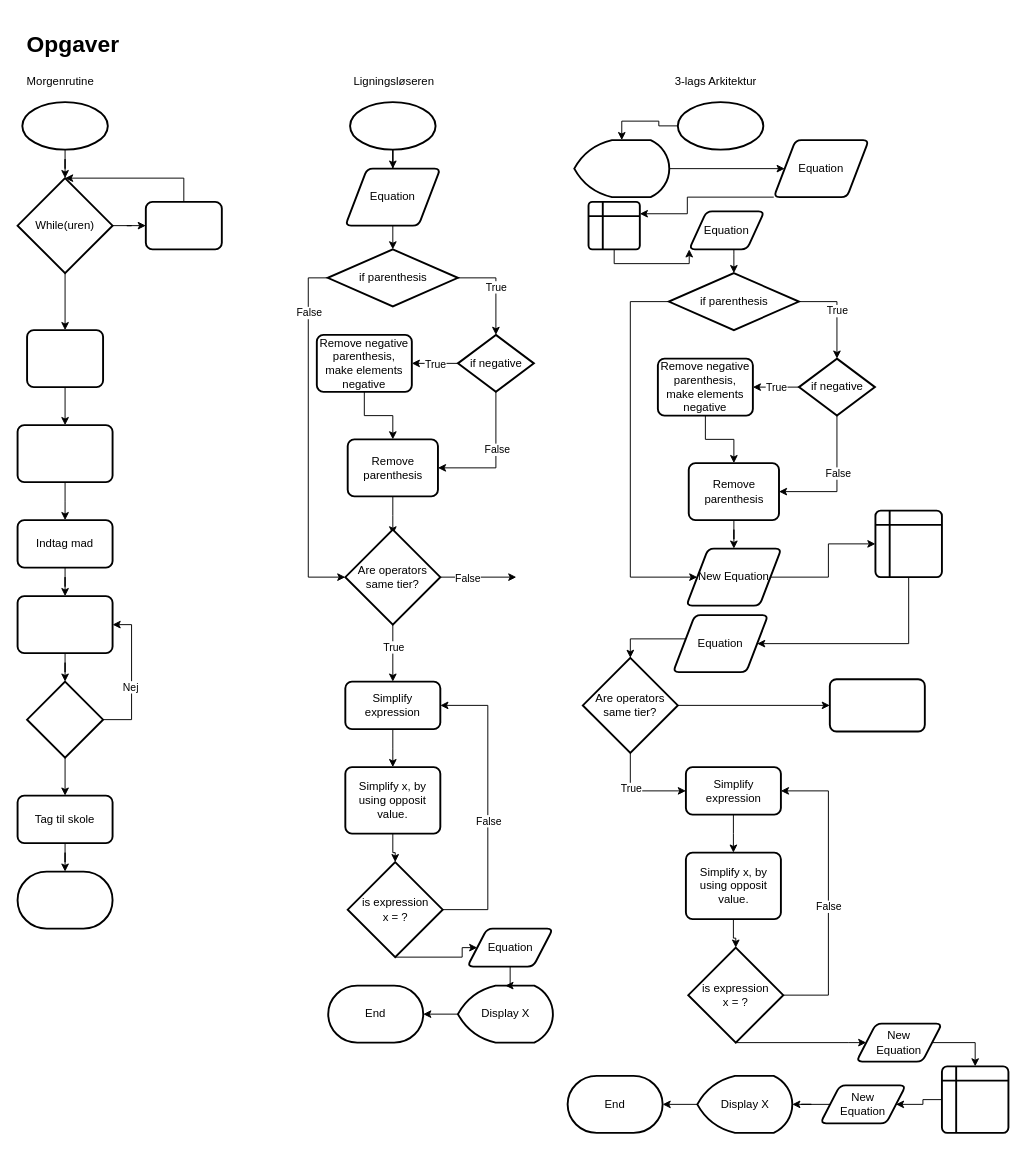
Image size: 1025x1150. Some labels were removed from this diagram. Here are the shapes that lost their labels. From the top down, the box of each, then its label:
(573, 139, 670, 198): User input
(144, 200, 222, 250): Bad
(26, 329, 104, 388): Tøj (tøj)
(16, 424, 113, 483): Klargør taske
(16, 595, 113, 654): Dobbelttjek alt
(26, 680, 104, 758): Klar?
(828, 678, 925, 732): More Advanced Process
